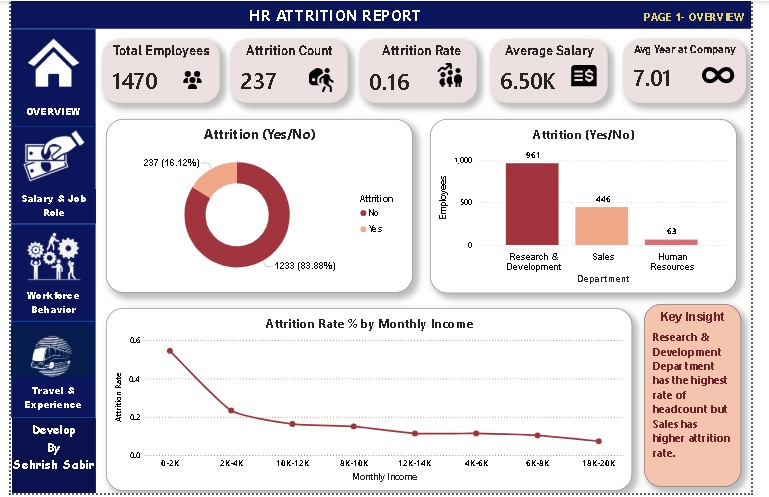

This screenshot's page, from the dashboard's own definition file:
{"tool":"powerbi","page":{"name":"Overview","canvas":[1280,850],"ordinal":0},"visuals":[{"type":"textbox","box":[0,0,1280.5,48.3],"z":0},{"type":"shape","box":[0,216.6,146.3,168.3],"z":1000},{"type":"shape","box":[0,48.3,146.3,168],"z":2000},{"type":"shape","box":[0,384.9,146.3,168],"z":3000},{"type":"shape","box":[0,553.2,146.3,167],"z":4000},{"type":"image","box":[11.7,61.5,122.9,89.3],"z":5000},{"type":"image","box":[1.5,216.6,144.9,122.9],"z":6000},{"type":"image","box":[0,384.9,144.9,120],"z":7000},{"type":"textbox","box":[1.5,174.1,143.4,42.4],"z":8000},{"type":"textbox","box":[1.5,324.9,144.9,60],"z":9000},{"type":"textbox","box":[1.5,493.2,143.4,60],"z":10000},{"type":"textbox","box":[1.5,657.1,143.4,62.9],"z":11000},{"type":"actionButton","box":[1.5,48.3,143.4,168.3],"z":12000},{"type":"actionButton","box":[0,216.6,143.4,168.3],"z":13000},{"type":"actionButton","box":[0,382,143.4,168.3],"z":14000},{"type":"actionButton","box":[0,550.2,143.4,169.8],"z":15000},{"type":"image","box":[0,553.2,143.4,103.9],"z":16000},{"type":"cardVisual","title":"Total Employees","fields":{"Data":["HR_Attrition_Cleaned.Total Employees"]},"box":[156.6,65,203,110],"z":17000},{"type":"image","box":[288.6,120.2,49.9,31.4],"z":18000},{"type":"cardVisual","title":"Attrition Count","fields":{"Data":["CountNonNull(HR_Attrition_Cleaned.Attrition)"]},"box":[377.6,65,203.4,110],"z":19000},{"type":"cardVisual","title":"Attrition Rate","fields":{"Data":["HR_Attrition_Cleaned.Attrition Rate"]},"box":[601.5,65,203.4,110],"z":20000},{"type":"cardVisual","title":"Average Salary","fields":{"Data":["Avg(HR_Attrition_Cleaned.MonthlyIncome)"]},"box":[826.8,65,203.4,110],"z":21000},{"type":"cardVisual","title":"Avg Year at Company","fields":{"Data":["Avg(HR_Attrition_Cleaned.YearsAtCompany)"]},"box":[1058,65,212.2,110],"z":22000},{"type":"image","box":[502,115.6,67.3,42.4],"z":23000},{"type":"image","box":[1188.3,101,65.9,55.6],"z":24000},{"type":"image","box":[737.7,115.8,55.3,39.7],"z":25000},{"type":"image","box":[958.8,119.2,60.5,43.2],"z":26000},{"type":"donutChart","title":"Attrition (Yes/No)","fields":{"Category":["HR_Attrition_Cleaned.Attrition"],"Y":["CountNonNull(HR_Attrition_Cleaned.Attrition)"]},"box":[164.1,203.9,530,300],"z":27000},{"type":"lineChart","title":"Attrition Rate % by Monthly Income","fields":{"Y":["HR_Attrition_Cleaned.Attrition Rate"],"Category":["HR_Attrition_Cleaned.Income Band"]},"box":[164.1,530.4,908.7,316.2],"z":28000},{"type":"clusteredColumnChart","title":"Attrition (Yes/No)","fields":{"Category":["HR_Attrition_Cleaned.Department"],"Y":["CountNonNull(HR_Attrition_Cleaned.Department)"]},"box":[723.9,203.9,530.4,300.6],"z":29000},{"type":"textbox","box":[1,720.4,145.1,129.6],"z":30000},{"type":"textbox","title":"Key Insight","box":[1093.6,523.5,167.6,316.2],"z":31000}]}

Visuals, with their boxes in screenshot pixels (x1, y1, x2, y2), scaled from the page's 1280x850 canvas onto the 769x497 screenshot:
textbox: (0,0,768,28)
shape: (0,127,88,225)
shape: (0,28,88,126)
shape: (0,225,88,323)
shape: (0,323,88,421)
image: (7,36,81,88)
image: (1,127,88,199)
image: (0,225,87,295)
textbox: (1,102,87,127)
textbox: (1,190,88,225)
textbox: (1,288,87,323)
textbox: (1,384,87,421)
actionButton: (1,28,87,127)
actionButton: (0,127,86,225)
actionButton: (0,223,86,322)
actionButton: (0,322,86,421)
image: (0,323,86,384)
"Total Employees" cardVisual: (94,38,216,102)
image: (173,70,203,89)
"Attrition Count" cardVisual: (227,38,349,102)
"Attrition Rate" cardVisual: (361,38,484,102)
"Average Salary" cardVisual: (497,38,619,102)
"Avg Year at Company" cardVisual: (636,38,763,102)
image: (302,68,342,92)
image: (714,59,753,92)
image: (443,68,476,91)
image: (576,70,612,95)
"Attrition (Yes/No)" donutChart: (99,119,417,295)
"Attrition Rate % by Monthly Income" lineChart: (99,310,645,495)
"Attrition (Yes/No)" clusteredColumnChart: (435,119,754,295)
textbox: (1,421,88,496)
"Key Insight" textbox: (657,306,758,491)
